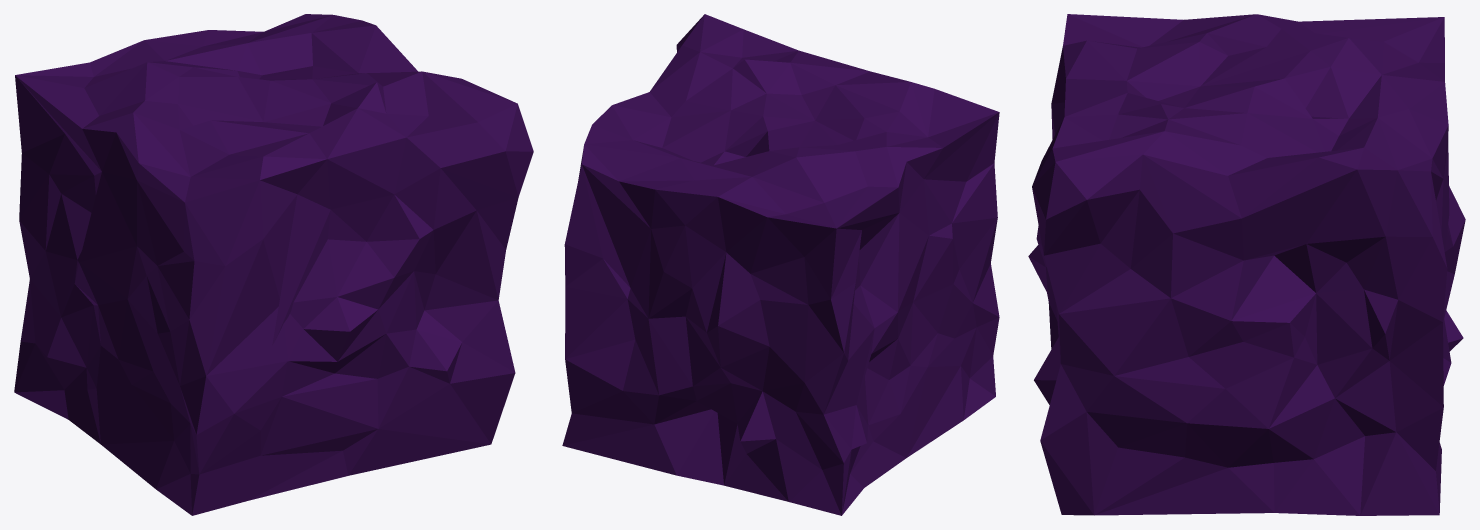
File: purple_rock.obj
3 views of the same model, side by side, from view 1: azimuth 30°, elevation 25°; view 2: azimuth 150°, elevation 25°; view 3: azimuth 270°, elevation 25° (orthographic). The views are drawn at different scales.
Visible parts, largest first — view 1: Cube; view 2: Cube; view 3: Cube.
Part boxes in pixels (x1,y1,x2,y2): Cube: (14,14,533,515); Cube: (562,14,999,515); Cube: (1028,14,1465,515).
Size of the model in its own units: 2.26 by 2.2 by 2.3.
